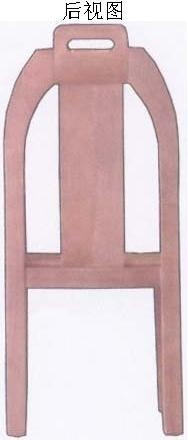obstacle: (4, 24, 182, 435)
